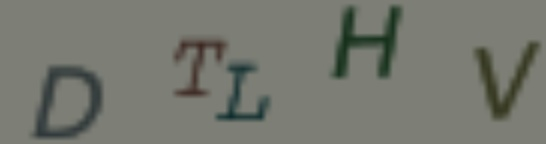D: (30, 60, 108, 144)
H: (328, 1, 413, 82)
L: (215, 62, 273, 121)
T: (164, 39, 231, 101)
V: (468, 34, 542, 121)
